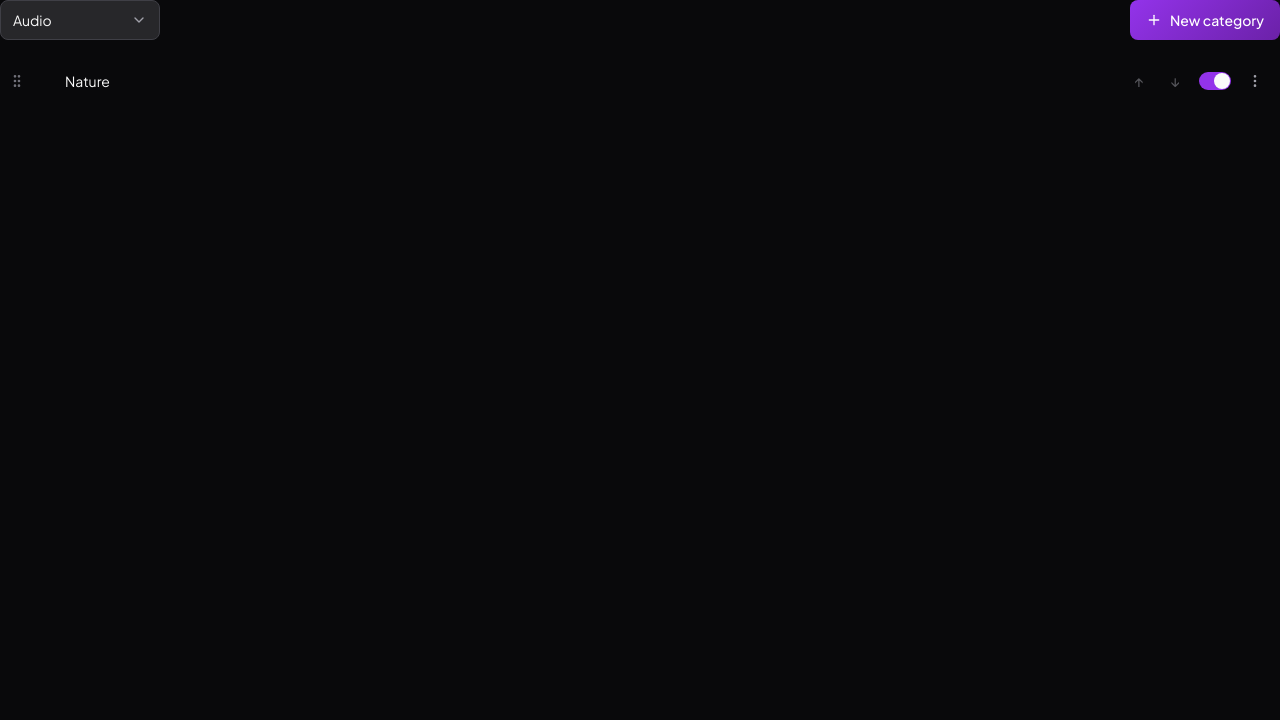
Test: CategoryTree 422 handling › shows a create 422's name message under the Name field
The width and height of the screenshot is (1280, 720).
Expected: the element with test id "category-row-p1" is shown, [0,56,1279,106]
Click the button "New category" at (1205, 20), box [1130,0,1279,40]
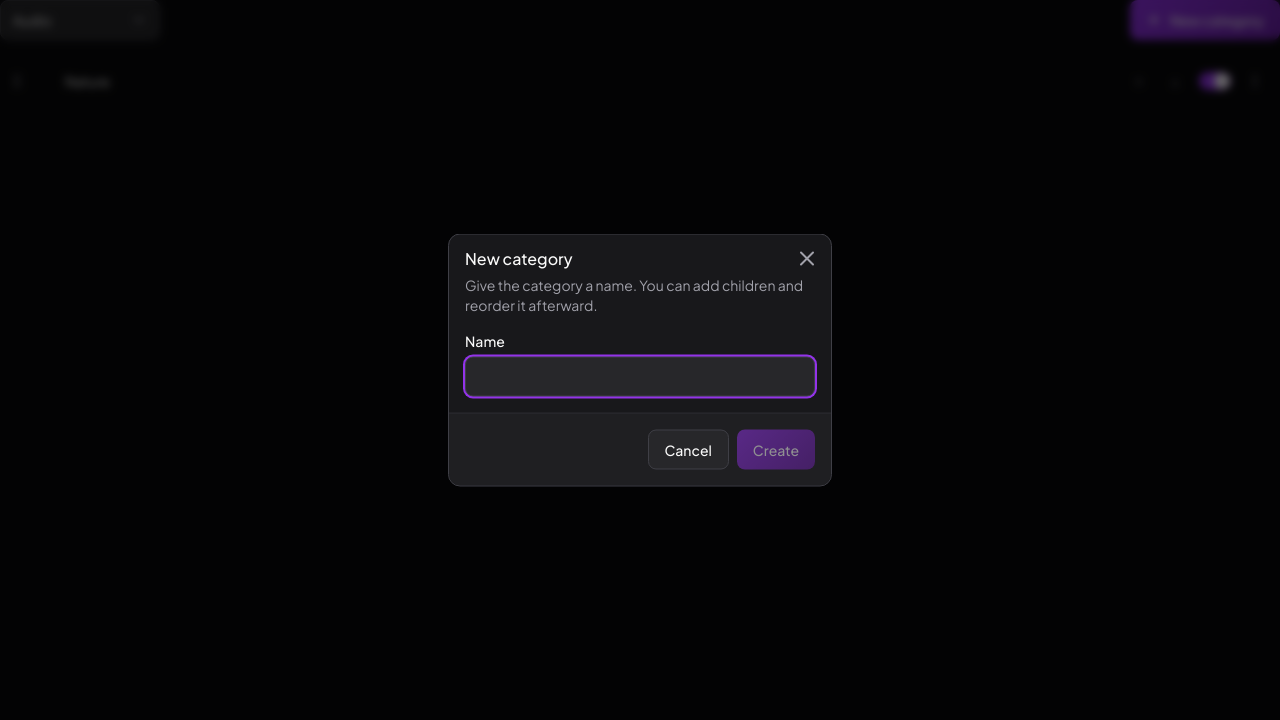
Type "Thunder" into the field labelled "Name" at (640, 376), box [465,356,815,396]
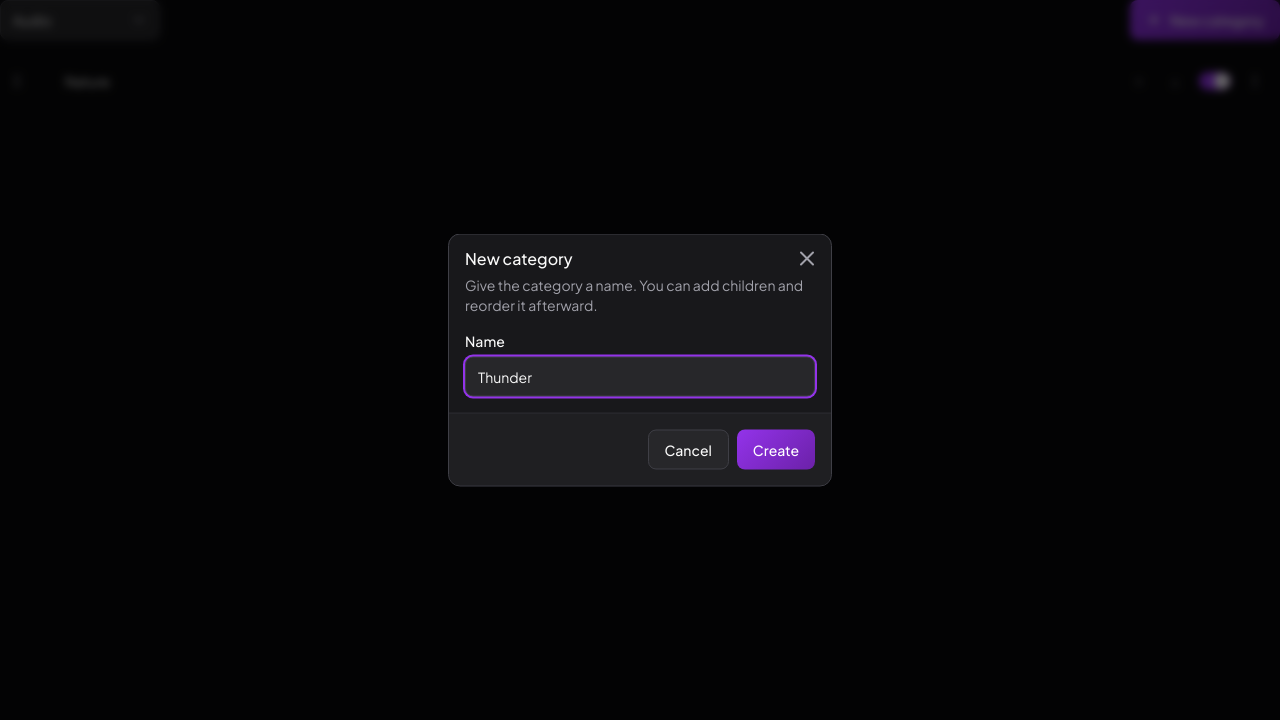
Click the button "Create" at (776, 450), box [737,430,815,470]
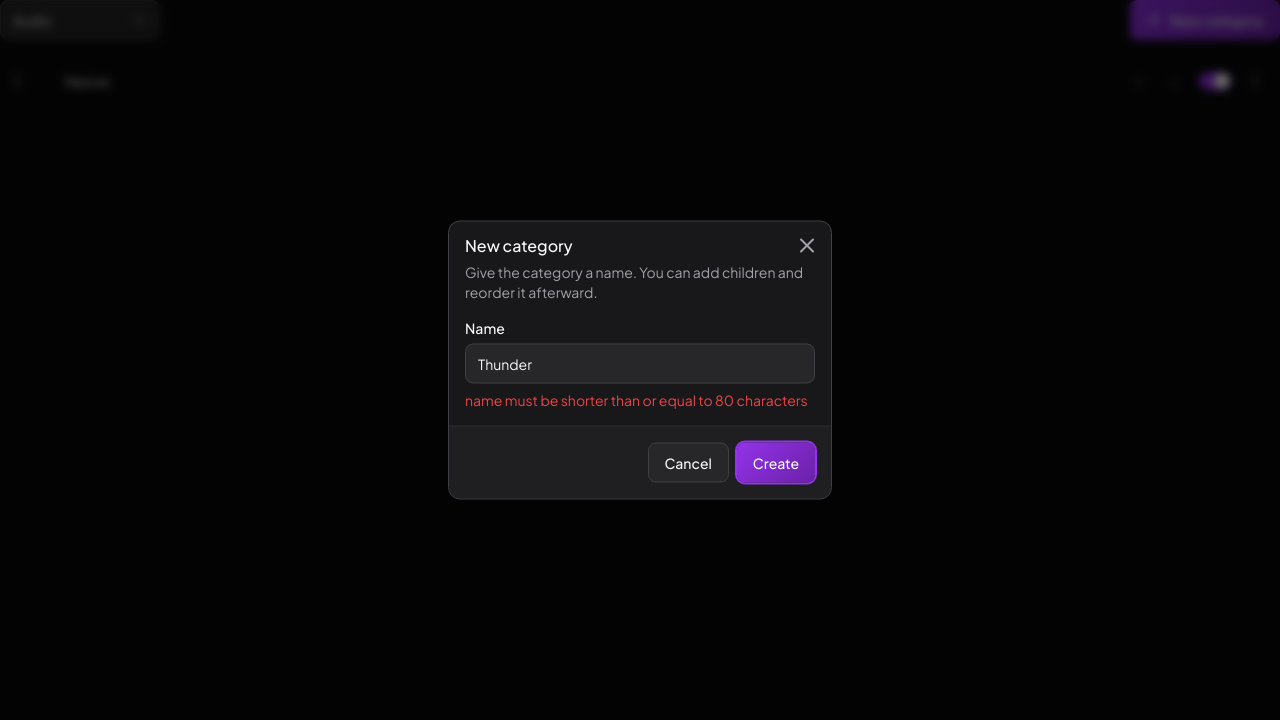
Result: the text "name must be shorter than or equal to 80 characters" is shown at [465,390,815,410]
